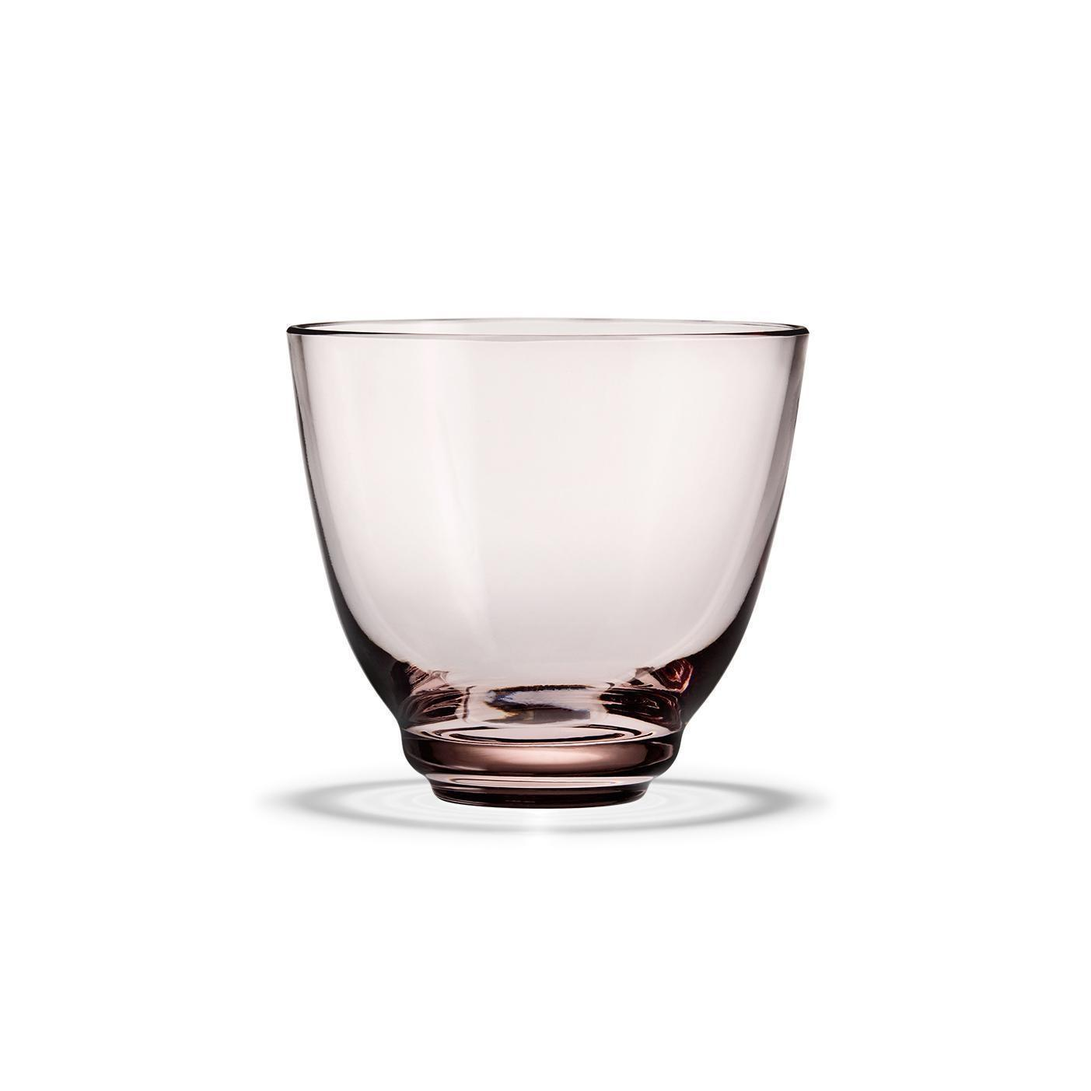glass-normal: (264, 311, 820, 819)
